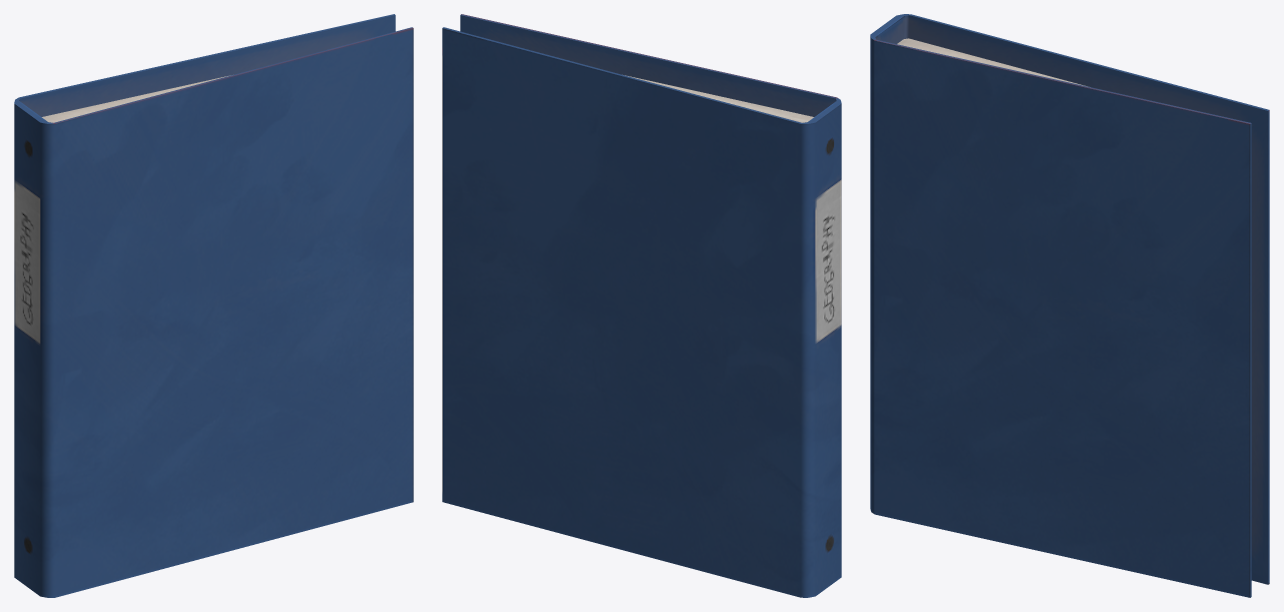
File: SM_Binder_01g.fbx
3 views of the same model, side by side, from view 1: azimuth 30°, elevation 25°; view 2: azimuth 150°, elevation 25°; view 3: azimuth 330°, elevation 25° (orthographic).
Parts seen in each view (by area): view 1: SM_Binder_01g_LOD0; view 2: SM_Binder_01g_LOD0; view 3: SM_Binder_01g_LOD0.
Part boxes in pixels (x1,y1,x2,y2): SM_Binder_01g_LOD0: (14, 14, 413, 597); SM_Binder_01g_LOD0: (442, 14, 841, 597); SM_Binder_01g_LOD0: (870, 14, 1269, 597).
Size of the model in its own units: 27.47 by 4.57 by 33.01.
Materials: 1 (1 with a texture image).
